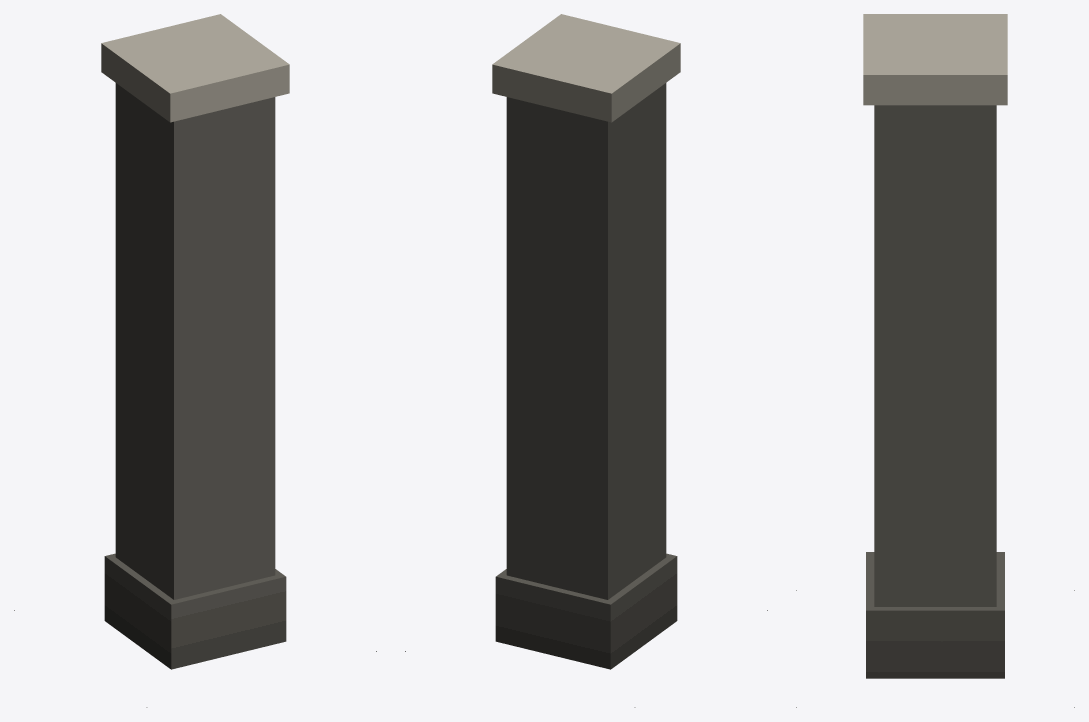
File: wall_stone.glb
3 renders of one model, left to right at view 1: azimuth 30°, elevation 25°; view 2: azimuth 150°, elevation 25°; view 3: azimuth 270°, elevation 25°, orthographic. The views are drawn at different scales.
Size of the model in its own units: 1 by 2.4 by 1.
1 material, 1 textured.
